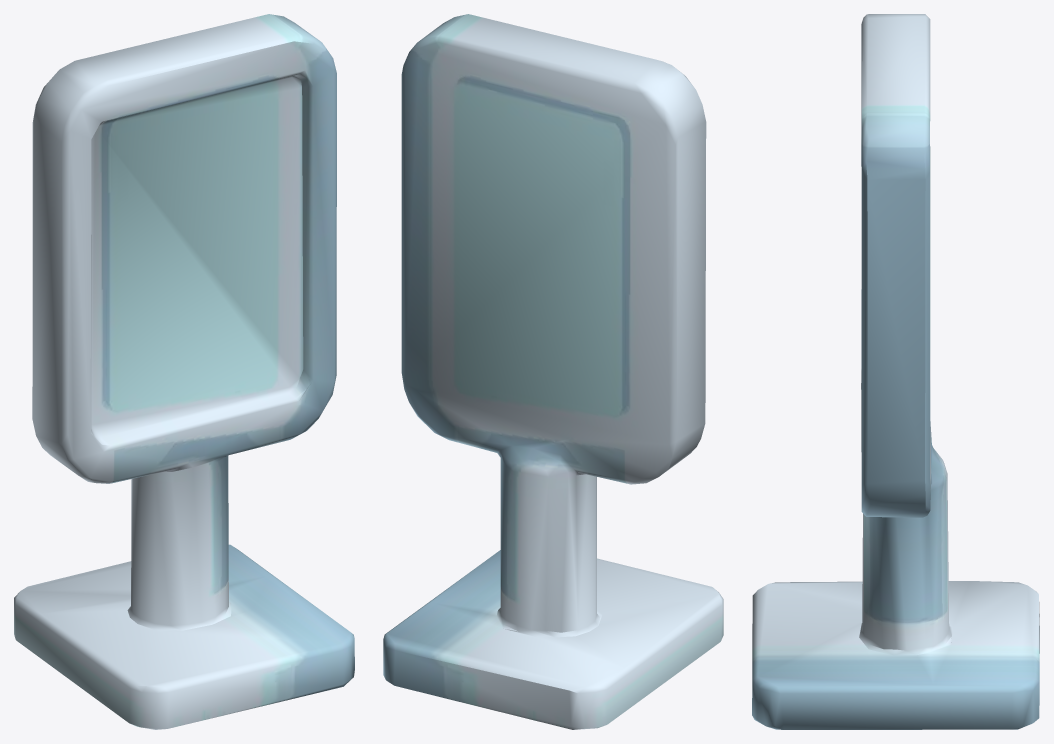
3 renders of one model, left to right at view 1: azimuth 30°, elevation 25°; view 2: azimuth 150°, elevation 25°; view 3: azimuth 270°, elevation 25°, orthographic.
Visible parts, largest first — view 1: Decor_directory_totem; view 2: Decor_directory_totem; view 3: Decor_directory_totem.
Boxes of the visible parts, x1,y1,x2,y2 form: Decor_directory_totem: (14, 14, 354, 729); Decor_directory_totem: (383, 14, 723, 729); Decor_directory_totem: (752, 14, 1039, 729).
Bounding box in the file's own units: 0.9446 × 2 × 0.8478.
1 material, 1 textured.
